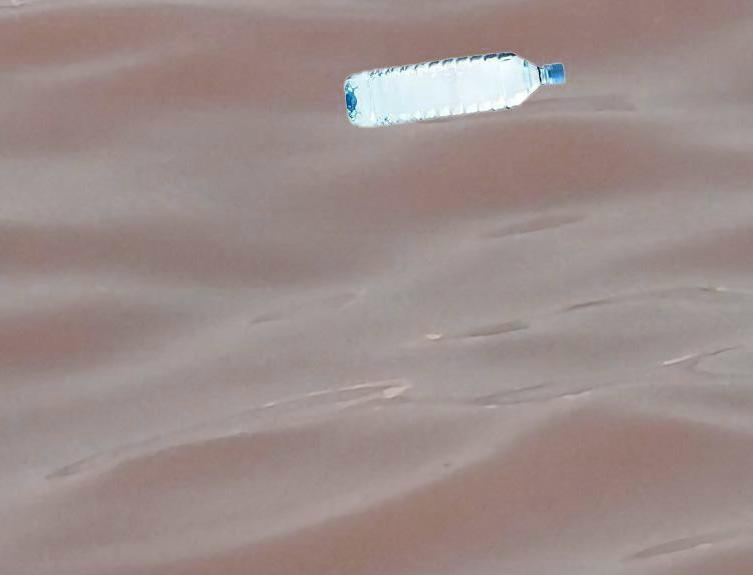Plastic: (348, 47, 571, 130)
